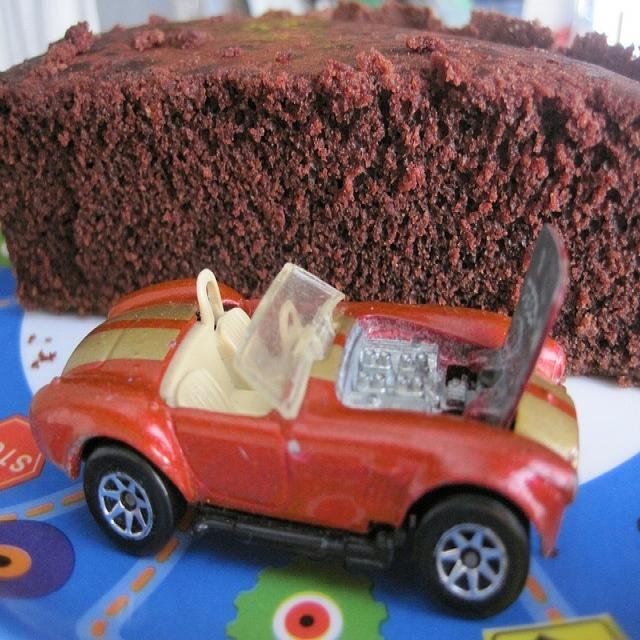car: (27, 223, 580, 600)
